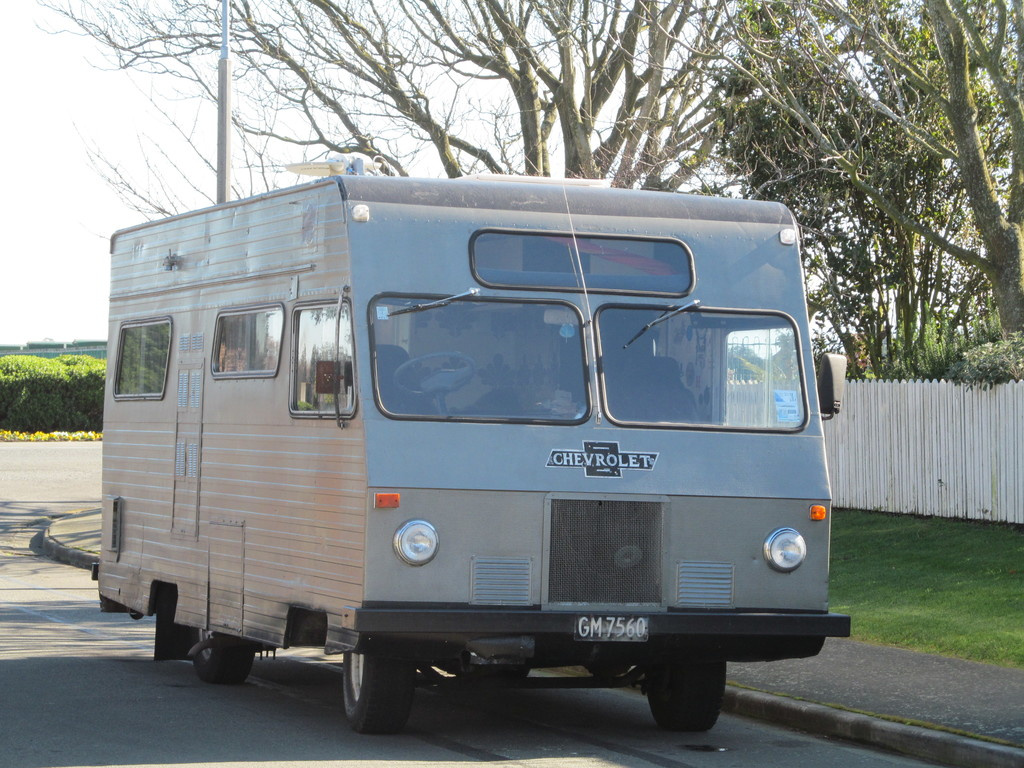Tree: (32, 0, 1024, 392)
